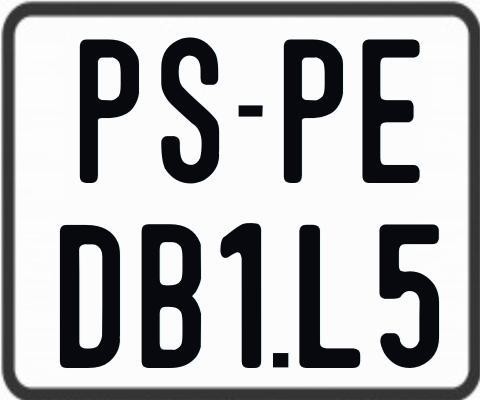1: (220, 220, 262, 371)
5: (376, 224, 441, 373)
B: (141, 221, 204, 366)
D: (57, 224, 123, 373)
E: (362, 39, 423, 183)
L: (298, 222, 365, 371)
P: (283, 36, 346, 185), (78, 37, 137, 181)
S: (160, 35, 218, 185)
